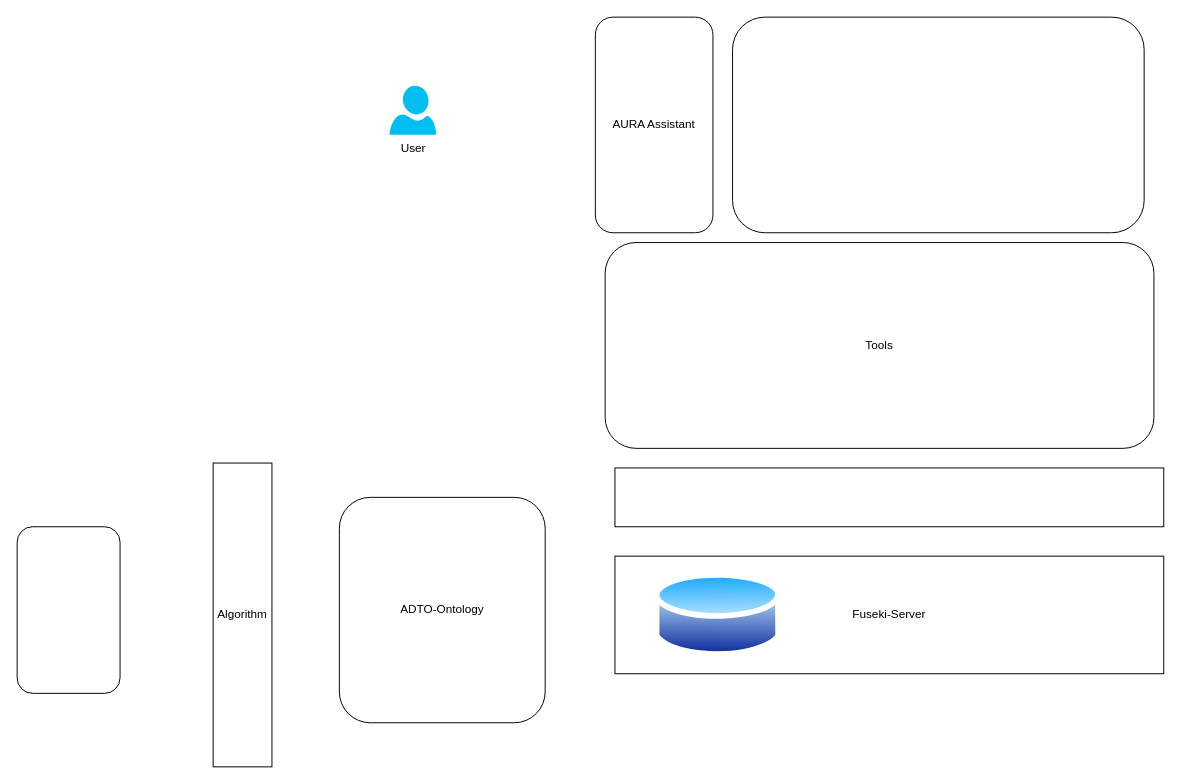
Image size: 1181x784. Some labels were removed from this diagram. The shapes that lost their labels are listed below. From the top down, each one's centre as x and y in pixels, then its label:
(938,124): Supporting Agents
(889,497): FastAPI
(68,609): INPUT Data
